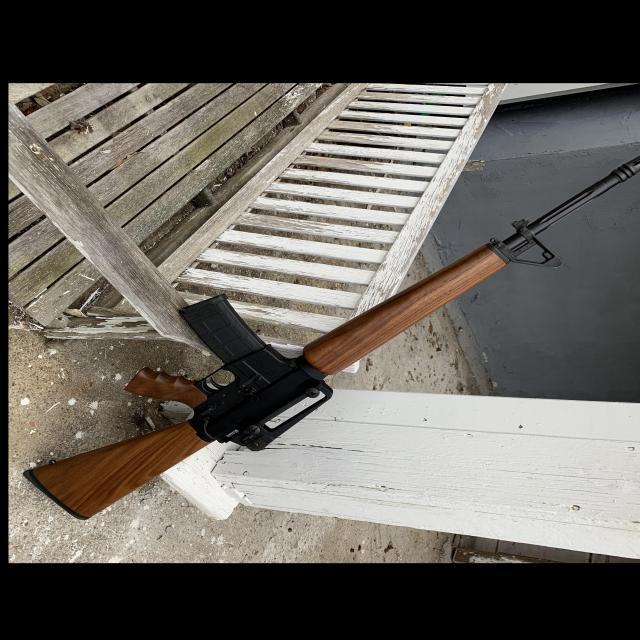weapon: (26, 158, 640, 526)
